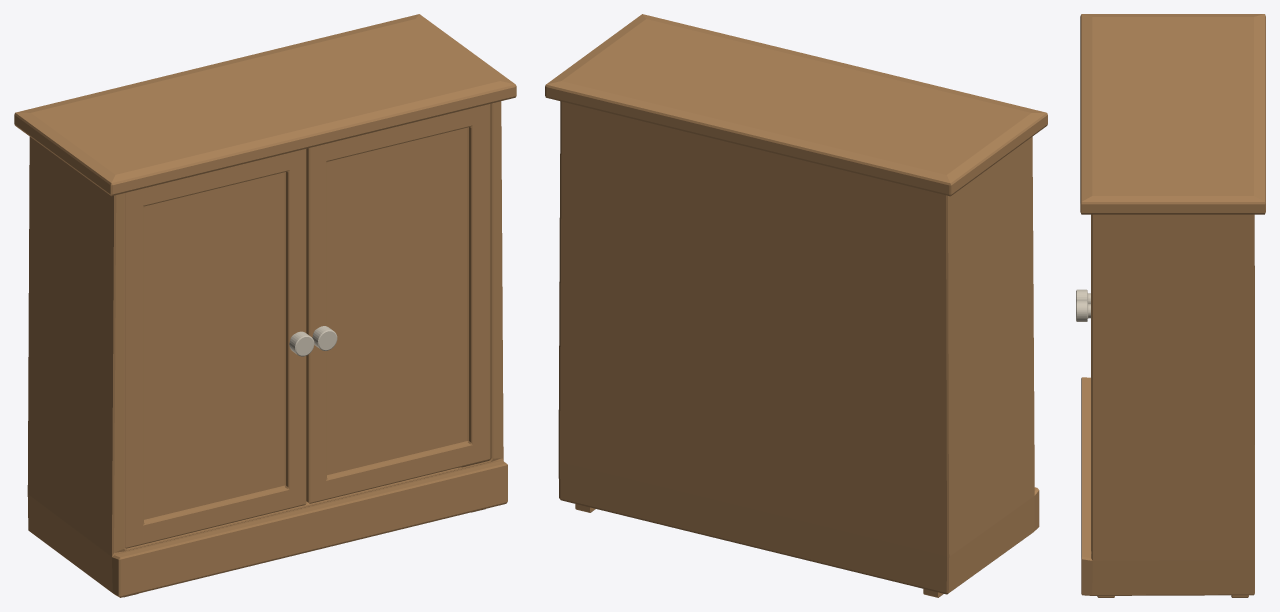
The model's file is Cabinet.fbx.
The picture shows the model from 3 angles, left to right: view 1: azimuth 30°, elevation 25°; view 2: azimuth 150°, elevation 25°; view 3: azimuth 270°, elevation 25°; orthographic projection. The views are drawn at different scales.
Visible parts, largest first — view 1: Cabinet, RightHandle, LeftHandle; view 2: Cabinet; view 3: Cabinet, Cylinder.002.
Part boxes in pixels (x1=…): Cabinet: x1=14, y1=14, x2=516, y2=597; RightHandle: x1=306, y1=104, x2=490, y2=503; LeftHandle: x1=125, y1=149, x2=306, y2=548; Cabinet: x1=545, y1=14, x2=1047, y2=594; Cabinet: x1=1080, y1=14, x2=1265, y2=595; Cylinder.002: x1=1076, y1=300, x2=1090, y2=321.
Size of the model in its own units: 0.6579 by 1.55 by 1.56.
